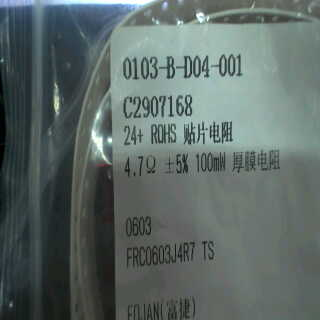4.7R: (119, 152, 160, 184)
